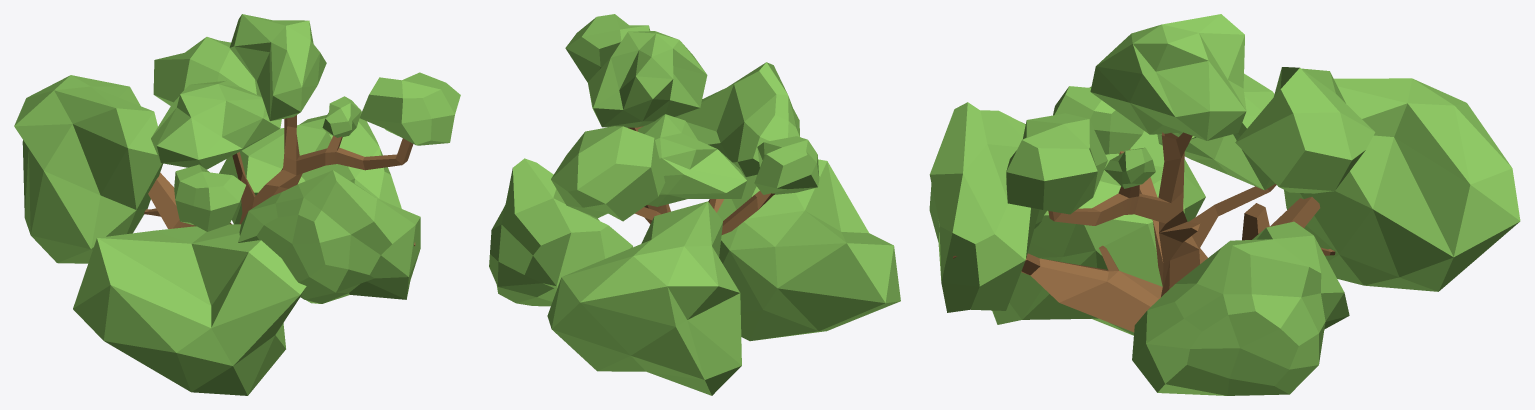
Rendered from bush_1_export_1.fbx.
The picture shows the model from 3 angles, left to right: view 1: azimuth 30°, elevation 25°; view 2: azimuth 150°, elevation 25°; view 3: azimuth 270°, elevation 25°; orthographic projection. The views are drawn at different scales.
Visible parts, largest first — view 1: pPlatonic19, pPlatonic18, pPlatonic16, pPlatonic21, pPlatonic20, pPlatonic14, tree_trunk1, leaves_mal4, leaves_mal6, leaves_mal5, leaves_mal7; view 2: pPlatonic18, pPlatonic19, pPlatonic14, pPlatonic20, leaves_mal6, pPlatonic16, pPlatonic21, leaves_mal5, leaves_mal4, tree_trunk1; view 3: pPlatonic18, pPlatonic14, pPlatonic16, tree_trunk1, pPlatonic20, leaves_mal6, pPlatonic19, leaves_mal4, pPlatonic21, leaves_mal5, leaves_mal7.
Boxes of the visible parts, x1,y1,x2,y2 form: pPlatonic19: [73, 224, 306, 395]; pPlatonic18: [14, 75, 163, 263]; pPlatonic16: [238, 170, 420, 303]; pPlatonic21: [151, 80, 281, 169]; pPlatonic20: [229, 14, 326, 120]; pPlatonic14: [219, 109, 401, 224]; tree_trunk1: [144, 115, 415, 245]; leaves_mal4: [359, 72, 460, 145]; leaves_mal6: [153, 37, 261, 105]; leaves_mal5: [174, 164, 245, 231]; leaves_mal7: [322, 96, 361, 137]; pPlatonic18: [547, 201, 741, 395]; pPlatonic19: [717, 159, 900, 341]; pPlatonic14: [489, 158, 632, 306]; pPlatonic20: [587, 31, 707, 127]; leaves_mal6: [551, 126, 665, 221]; pPlatonic16: [675, 62, 799, 176]; pPlatonic21: [638, 114, 746, 206]; leaves_mal5: [754, 136, 819, 194]; leaves_mal4: [565, 14, 650, 82]; tree_trunk1: [628, 126, 774, 234]; pPlatonic18: [1284, 78, 1520, 291]; pPlatonic14: [1132, 221, 1349, 395]; pPlatonic16: [929, 102, 1046, 312]; tree_trunk1: [953, 132, 1335, 332]; pPlatonic20: [1090, 14, 1246, 140]; leaves_mal6: [1235, 67, 1375, 193]; pPlatonic19: [992, 131, 1205, 335]; leaves_mal4: [1006, 113, 1107, 214]; pPlatonic21: [1157, 73, 1275, 190]; leaves_mal5: [1053, 86, 1143, 154]; leaves_mal7: [1104, 147, 1155, 188].
Size of the model in its own units: 3.98 by 3.22 by 4.74.
